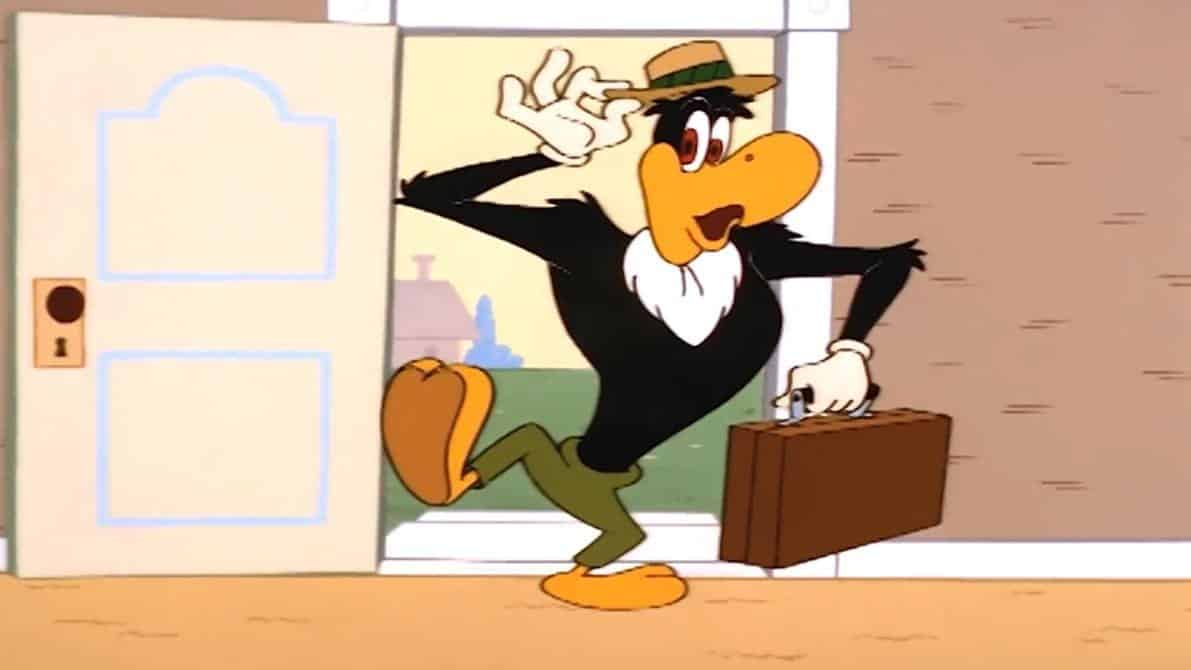urubu: (397, 29, 918, 645)
